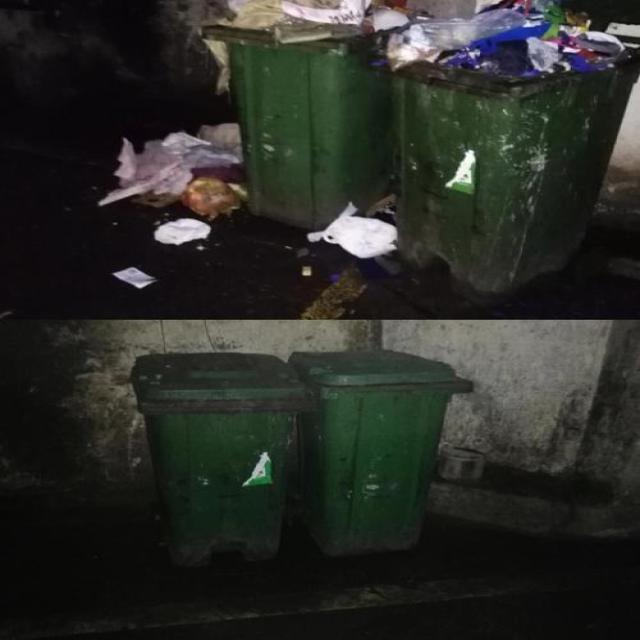garbage: (95, 123, 243, 286), (300, 202, 400, 258)
garbage_bin: (129, 353, 310, 568), (288, 348, 470, 555)
overflow: (386, 1, 638, 291), (202, 1, 428, 225)
